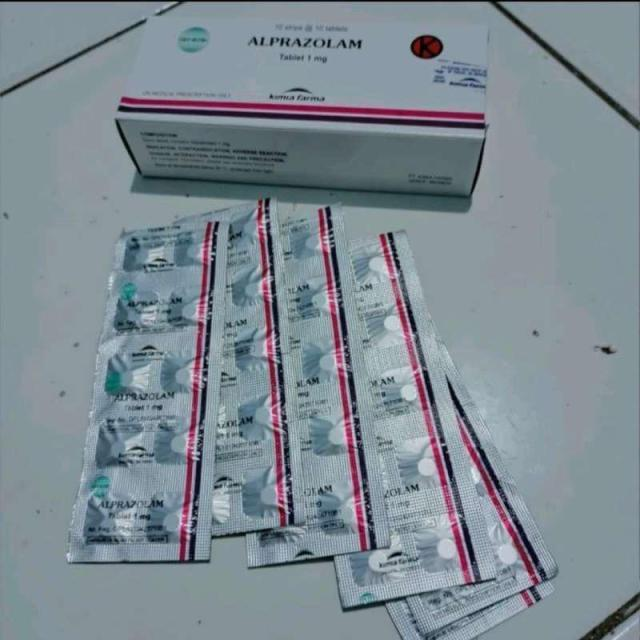drug-name: (246, 30, 368, 54)
